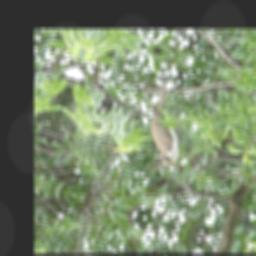Cuckoo: (131, 71, 211, 172)
